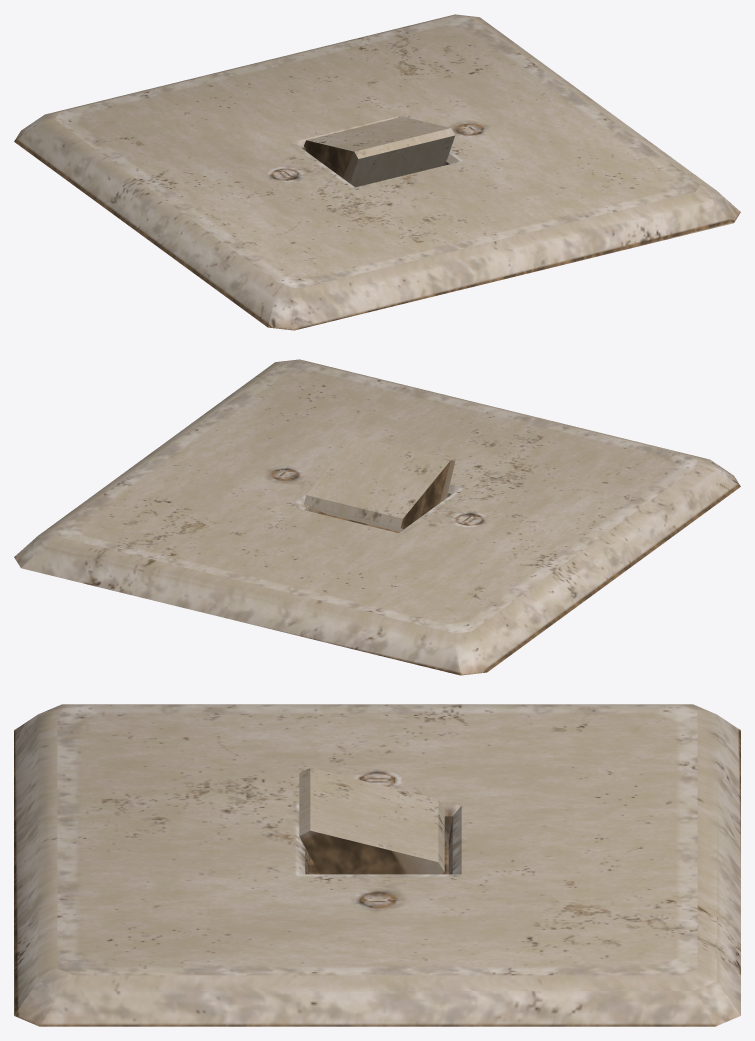
The model's file is Switcher_LP.fbx.
3 renders of one model, top to bottom at view 1: azimuth 30°, elevation 25°; view 2: azimuth 150°, elevation 25°; view 3: azimuth 270°, elevation 25°, orthographic. The views are drawn at different scales.
Visible parts, largest first — view 1: Switcher, SwitcherButton; view 2: Switcher, SwitcherButton; view 3: Switcher, SwitcherButton.
Boxes of the visible parts, x1,y1,x2,y2 form: Switcher: (14, 14, 740, 330); SwitcherButton: (304, 116, 455, 187); Switcher: (14, 359, 740, 675); SwitcherButton: (304, 436, 455, 531); Switcher: (14, 704, 740, 1026); SwitcherButton: (299, 768, 444, 874).
Bounding box in the file's own units: 10.28 × 1.44 × 10.28.
1 material, 1 textured.
